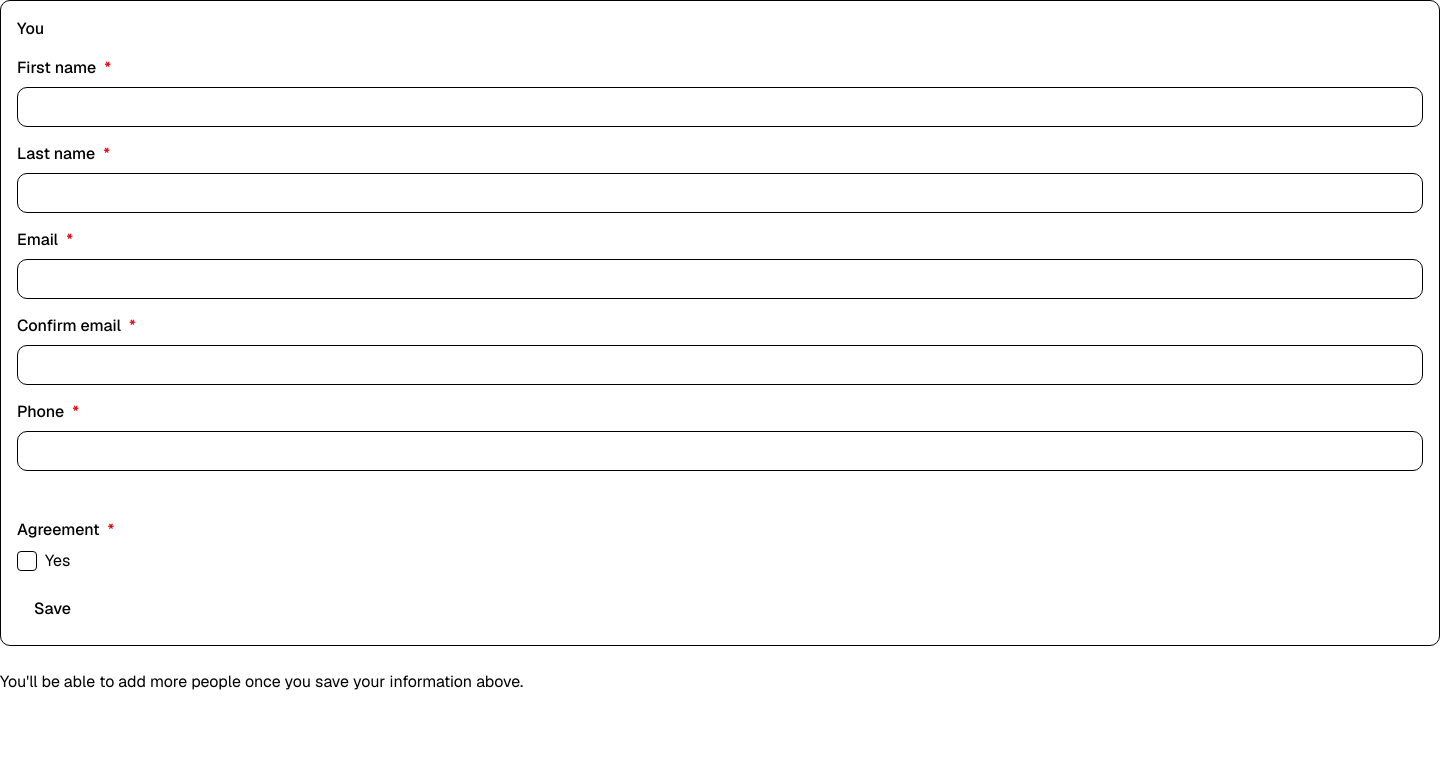
Test case: RegistrationForm › clicking Save on an invalid card shows its errors and keeps it in edit mode
Click the button "Save": point(52, 609) [17, 589, 88, 629]
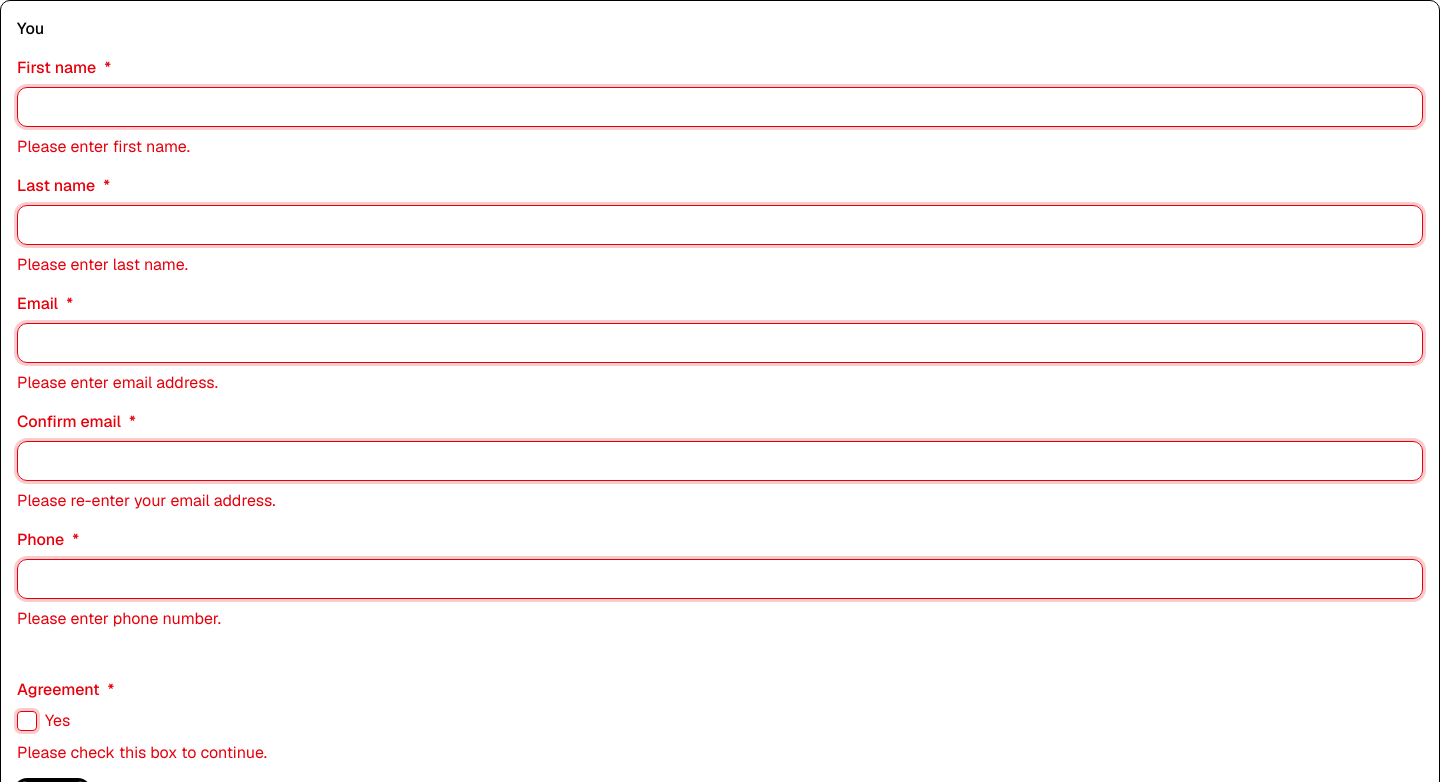
expect the field labelled "First name" is shown: met, box [17, 87, 1423, 127]
expect the text "Please enter first name." is shown: met, box [17, 136, 190, 157]
